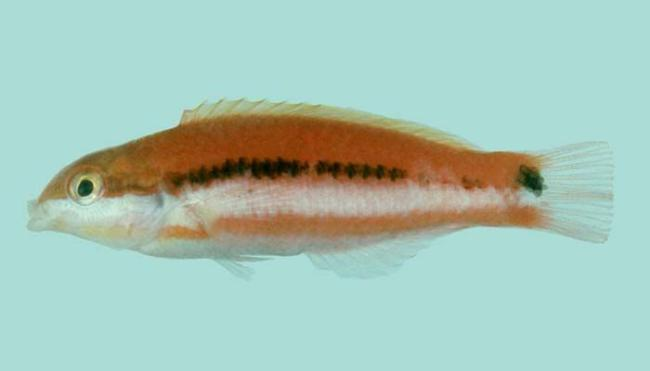fish: (26, 96, 616, 282)
